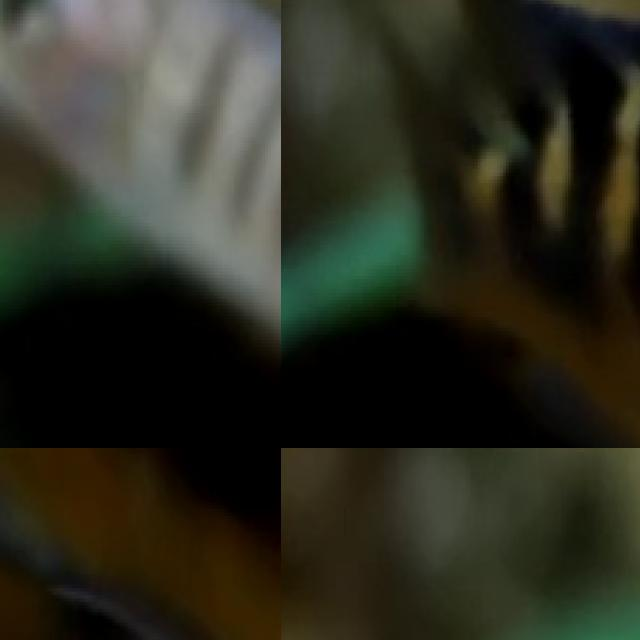fish: (328, 0, 640, 448), (0, 0, 281, 448)
